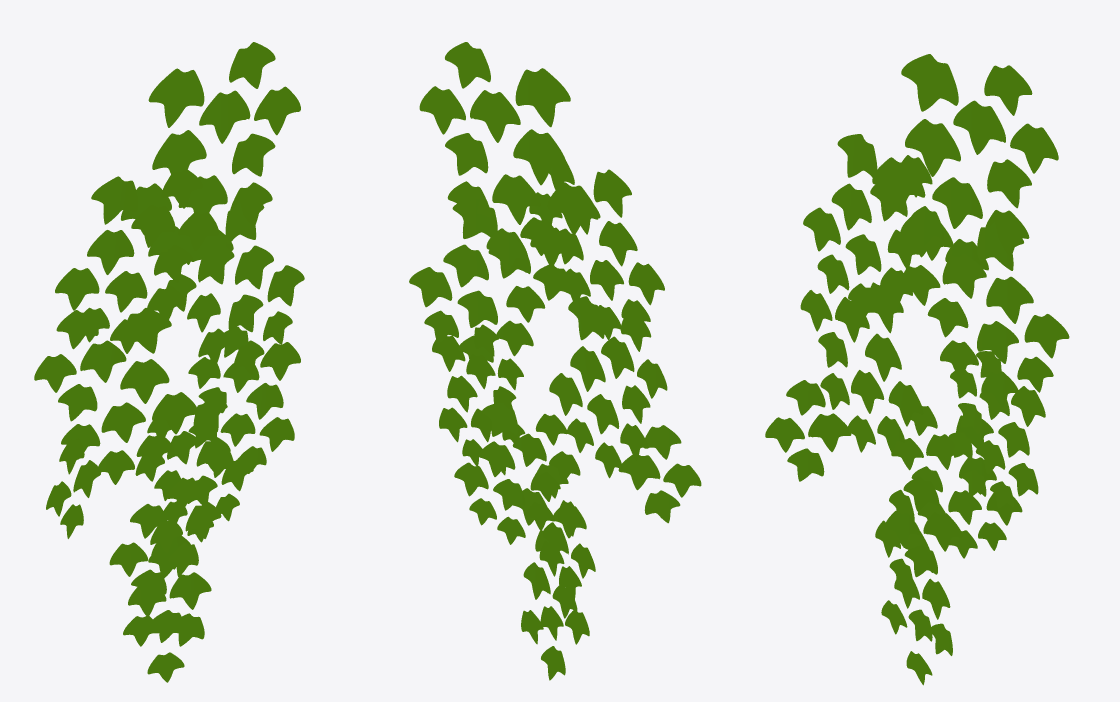
File: Prop_Vine2.gltf
3 views of the same model, side by side, from view 1: azimuth 30°, elevation 25°; view 2: azimuth 150°, elevation 25°; view 3: azimuth 330°, elevation 25° (orthographic). The views are drawn at different scales.
Visible parts, largest first — view 1: Prop_Vine2; view 2: Prop_Vine2; view 3: Prop_Vine2.
Boxes of the visible parts, box(x1,y1,x2,y2) form: Prop_Vine2: box(34, 42, 304, 682); Prop_Vine2: box(409, 42, 701, 680); Prop_Vine2: box(765, 54, 1069, 685).
Size of the model in its own units: 1.39 by 2.6 by 0.2138.
Materials: 1 (1 with a texture image).
